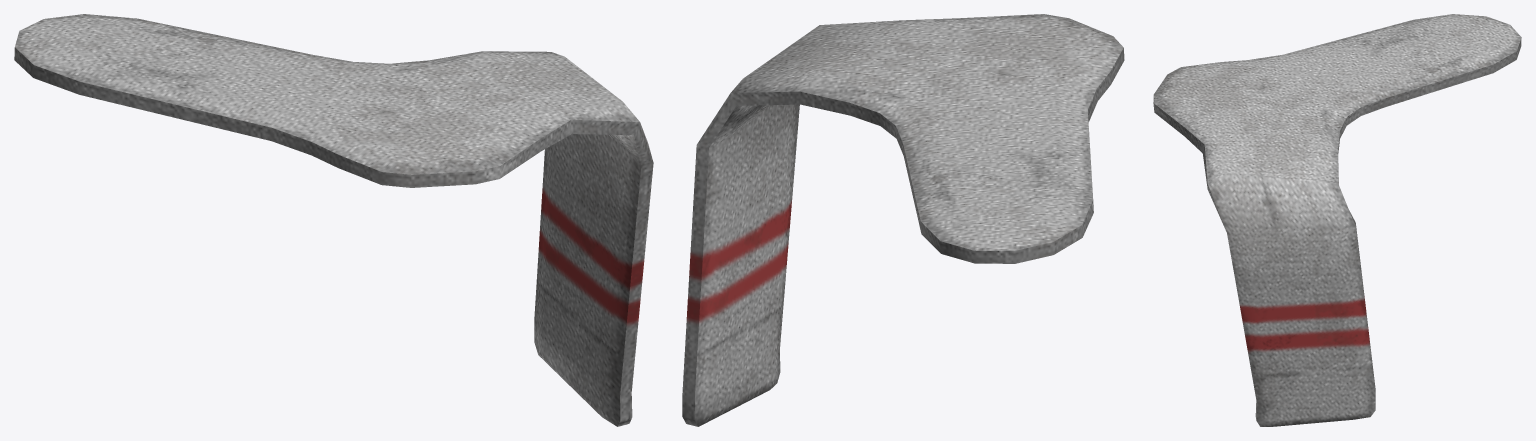
The model's file is SM_Sock_03.fbx.
3 views of the same model, side by side, from view 1: azimuth 30°, elevation 25°; view 2: azimuth 150°, elevation 25°; view 3: azimuth 270°, elevation 25° (orthographic). The views are drawn at different scales.
Visible parts, largest first — view 1: SM_Sock_03_LOD0; view 2: SM_Sock_03_LOD0; view 3: SM_Sock_03_LOD0.
Part boxes in pixels (left/top/right/bottom): SM_Sock_03_LOD0: left=14, top=14, right=653, bottom=426; SM_Sock_03_LOD0: left=682, top=14, right=1124, bottom=426; SM_Sock_03_LOD0: left=1153, top=14, right=1521, bottom=426.
Bounding box in the file's own units: 19.53 × 19.2 × 14.94.
